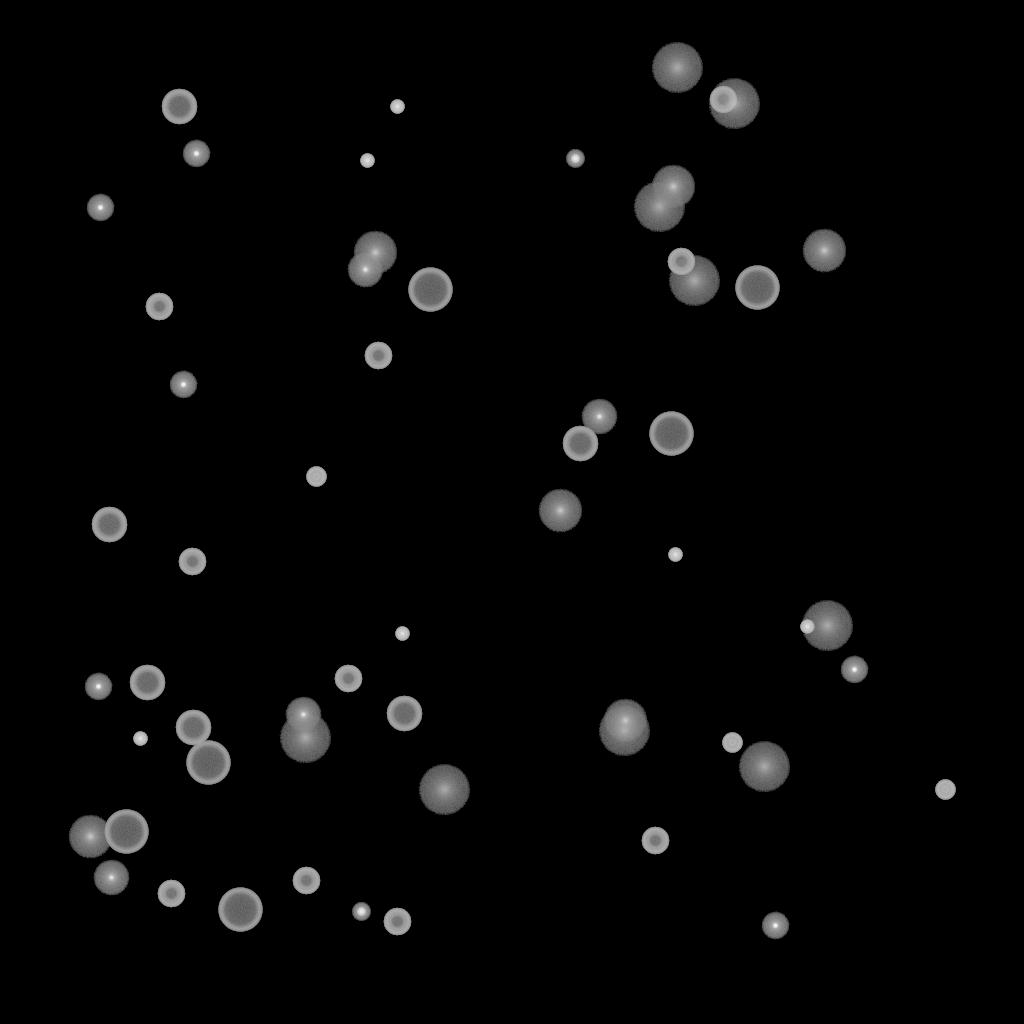depth:-10: (169, 371, 197, 399), (182, 140, 210, 168), (840, 656, 868, 684), (84, 673, 112, 701), (86, 194, 114, 222), (761, 912, 789, 940)
depth:-20: (566, 150, 584, 168), (352, 903, 370, 921)
depth:-30: (360, 154, 374, 168), (668, 548, 682, 562), (133, 732, 147, 746), (395, 627, 409, 641), (800, 620, 814, 634), (390, 100, 404, 114)
depth:-40: (722, 733, 742, 753), (306, 467, 326, 487), (935, 780, 955, 800)
depth:-50: (178, 548, 206, 576), (364, 342, 392, 370), (157, 880, 185, 908), (667, 248, 695, 276), (383, 908, 411, 936), (334, 665, 362, 693), (145, 293, 173, 321), (709, 86, 737, 114), (292, 867, 320, 895), (641, 827, 669, 855)
depth:-60: (562, 426, 598, 462), (129, 665, 165, 701), (386, 696, 422, 732), (161, 89, 197, 125), (175, 710, 211, 746), (91, 507, 127, 543)
depth:-70: (649, 412, 693, 456), (104, 810, 148, 854), (186, 741, 230, 785), (735, 266, 779, 310), (218, 888, 262, 932), (408, 268, 452, 312)
depth:0: (347, 252, 383, 288), (581, 399, 617, 435), (285, 697, 321, 733), (93, 860, 129, 896)
depth:10: (651, 165, 695, 209), (68, 815, 112, 859), (802, 229, 846, 273), (538, 489, 582, 533), (353, 231, 397, 275), (603, 699, 647, 743)
depth:20: (651, 43, 703, 93), (708, 79, 760, 129), (598, 706, 650, 756), (738, 742, 790, 792), (418, 765, 470, 815), (668, 256, 720, 306), (633, 182, 685, 232), (801, 601, 853, 651), (279, 713, 331, 763)
